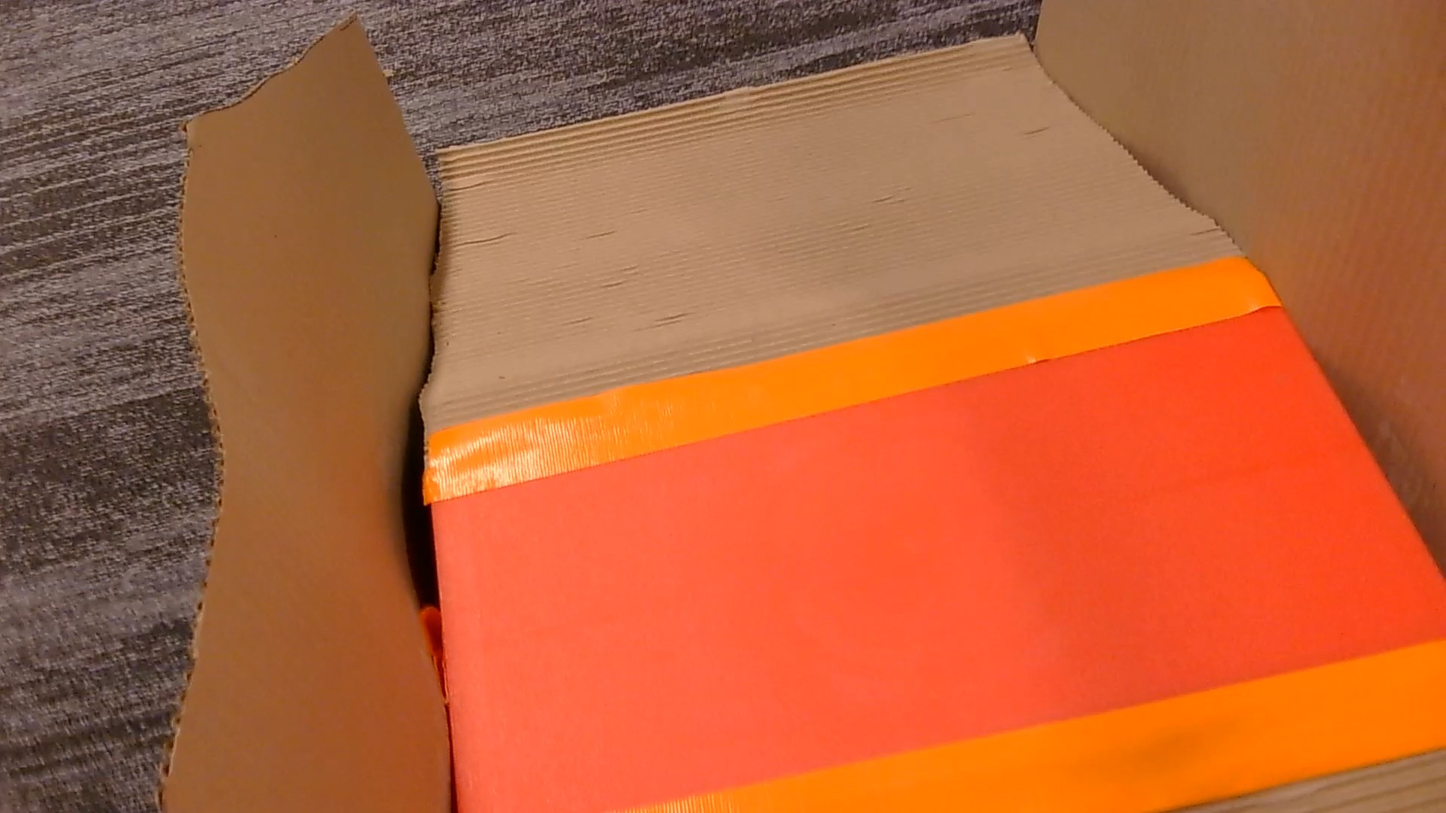Ramp: (163, 0, 1445, 812)
